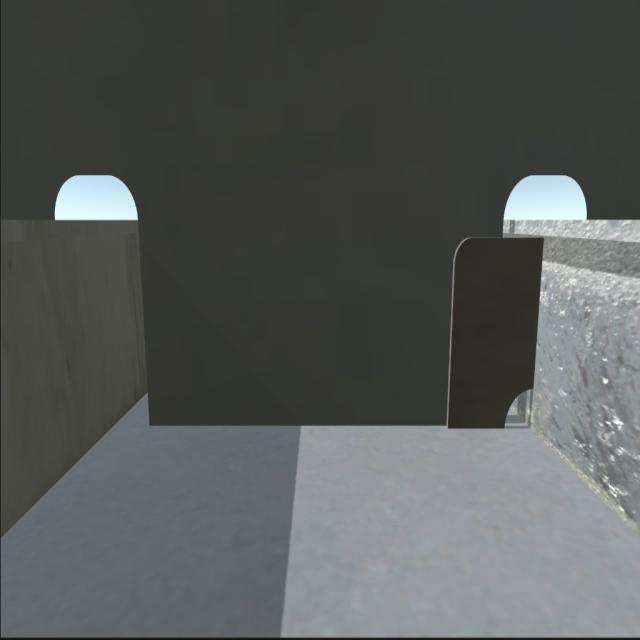fillet_hole: (498, 380, 536, 431)
fillet_yong_jeop_jang: (145, 418, 506, 437)
longi_yong_jeop_jang: (529, 234, 546, 390)
plate_CP05: (446, 230, 537, 426)
